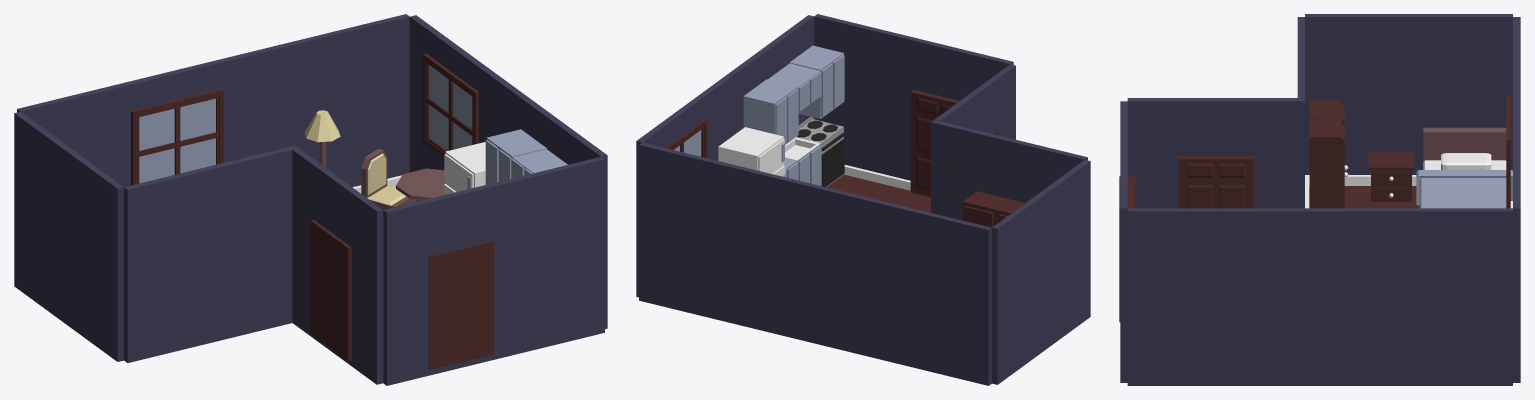
Rendered from Bedroom-AAGame.fbx.
3 renders of one model, left to right at view 1: azimuth 30°, elevation 25°; view 2: azimuth 150°, elevation 25°; view 3: azimuth 270°, elevation 25°, orthographic. The views are drawn at different scales.
Parts seen in each view (by area): view 1: Room Walls, Door1, Window1, Door2, Window, Kitchenarea, Fridge, Chair1.001, Table, Lamp; view 2: Room Walls, Kitchenarea, Door1, Fridge, Closet, Window; view 3: Room Walls, Bed, Door2, Closet, Sidetable, Door1, Window1.
Part boxes in pixels (x1,y1,x2,y2): Room Walls: (14, 14, 607, 385); Door1: (428, 241, 494, 369); Window1: (131, 88, 223, 185); Door2: (310, 220, 351, 361); Window: (423, 53, 478, 157); Kitchenarea: (485, 129, 567, 184); Fridge: (444, 142, 485, 194); Chair1.001: (361, 149, 416, 209); Table: (396, 168, 445, 200); Lamp: (304, 110, 340, 167); Room Walls: (636, 14, 1090, 385); Kitchenarea: (743, 45, 844, 187); Door1: (910, 89, 959, 196); Fridge: (718, 127, 785, 177); Closet: (962, 191, 1025, 227); Window: (665, 119, 706, 157); Room Walls: (1120, 14, 1520, 385); Bed: (1416, 127, 1512, 208); Door2: (1178, 156, 1254, 208); Closet: (1309, 100, 1348, 208); Sidetable: (1368, 152, 1414, 201); Door1: (1119, 176, 1135, 322); Window1: (1506, 95, 1510, 208).
Bounding box in the file's own units: 1598 × 674 × 1372.
